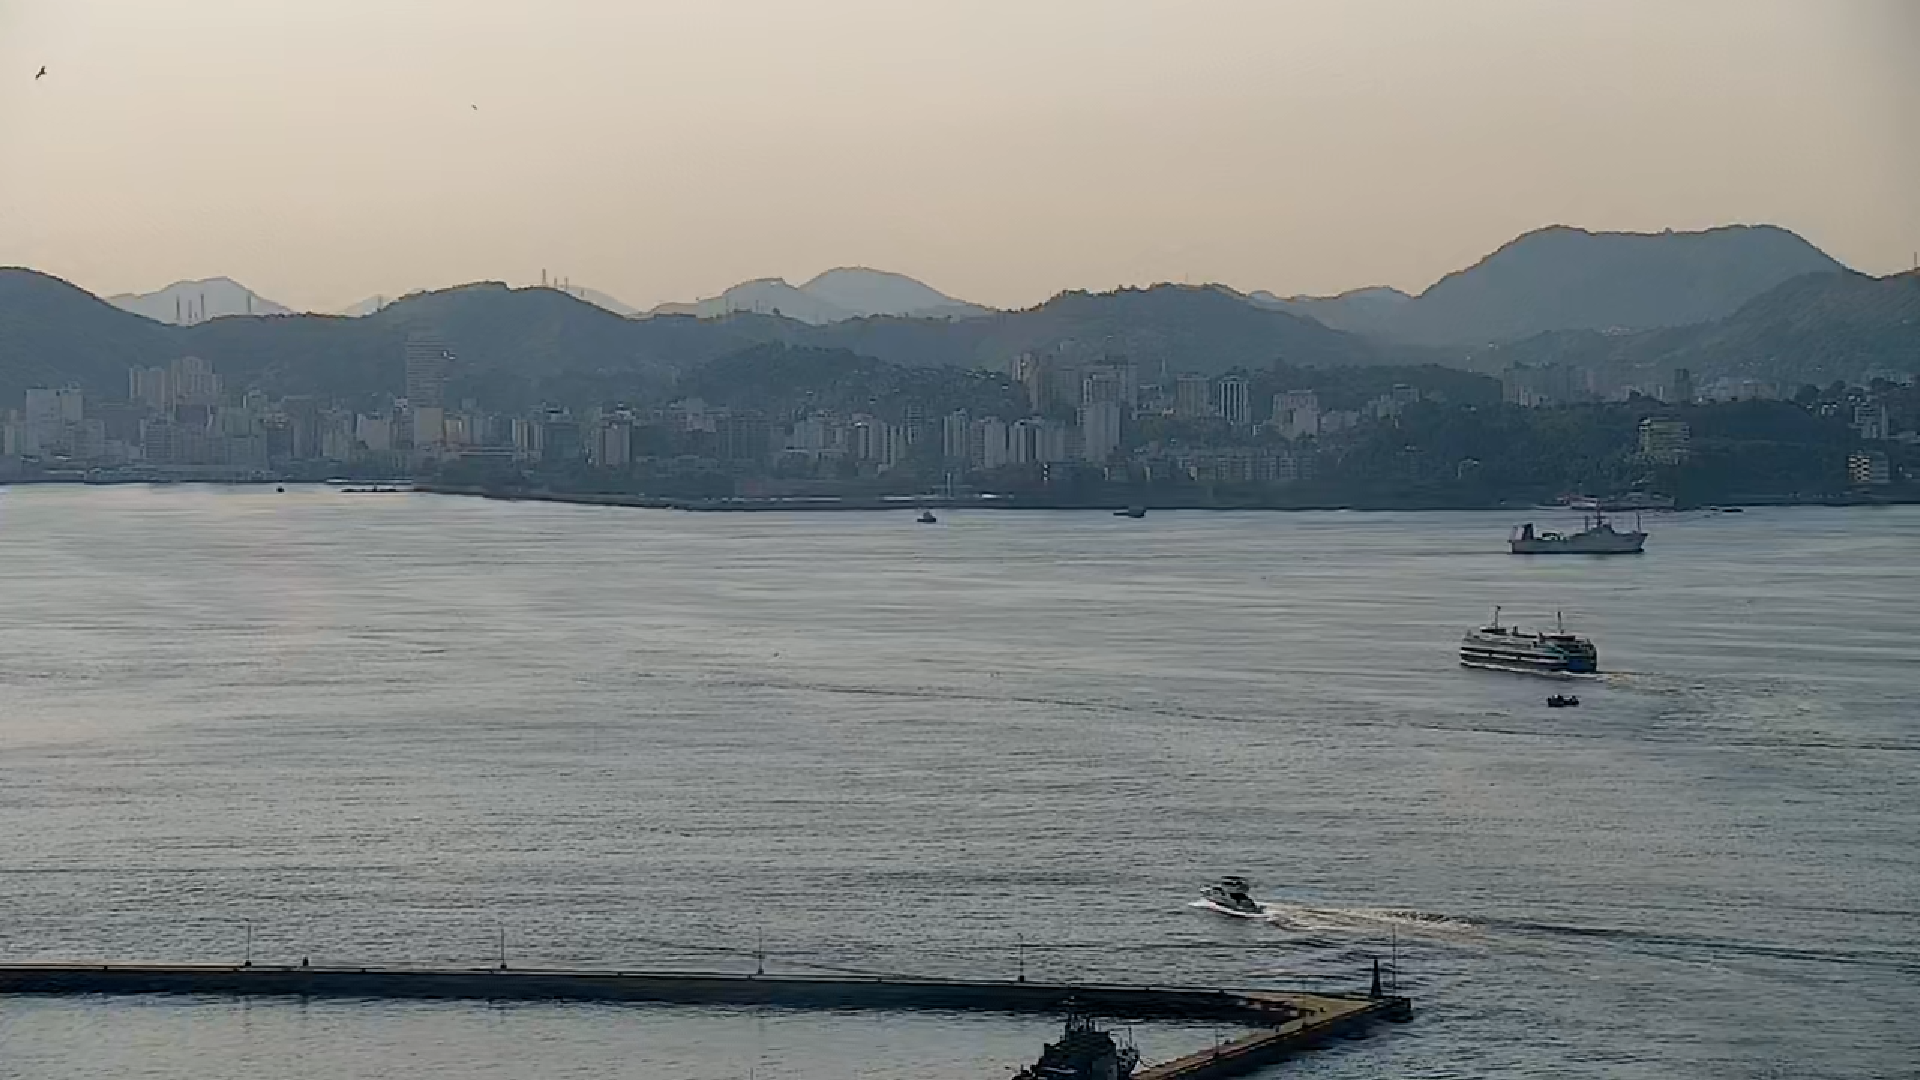Ship0: (1509, 516, 1654, 556)
Ship5: (1109, 498, 1149, 520)
Ship6: (1193, 864, 1269, 919), (913, 508, 938, 526)
Ship7: (1542, 692, 1582, 709)
